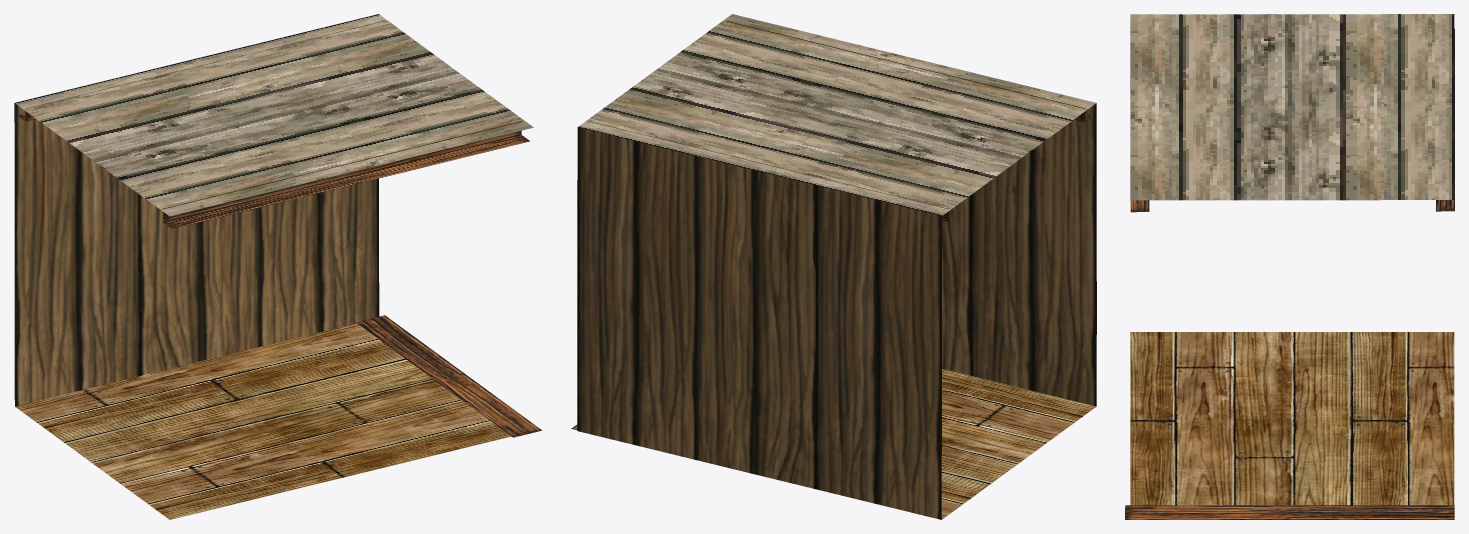
Rendered from LAKETOWN_WAREHOUSE2_PS_WH2_HALL_484847__GX.fbx.
3 views of the same model, side by side, from view 1: azimuth 30°, elevation 25°; view 2: azimuth 150°, elevation 25°; view 3: azimuth 270°, elevation 25° (orthographic). The views are drawn at different scales.
Visible parts, largest first — view 1: LAKETOWN_WAREHOUSE2_PS_WH2_HALL_484847__GX; view 2: LAKETOWN_WAREHOUSE2_PS_WH2_HALL_484847__GX; view 3: LAKETOWN_WAREHOUSE2_PS_WH2_HALL_484847__GX.
Boxes of the visible parts, x1=… form: LAKETOWN_WAREHOUSE2_PS_WH2_HALL_484847__GX: x1=14, y1=14, x2=541, y2=519; LAKETOWN_WAREHOUSE2_PS_WH2_HALL_484847__GX: x1=571, y1=14, x2=1096, y2=519; LAKETOWN_WAREHOUSE2_PS_WH2_HALL_484847__GX: x1=1125, y1=14, x2=1454, y2=519.
Size of the model in its own units: 41435 by 32480 by 30517.
4 materials, 4 textured.
